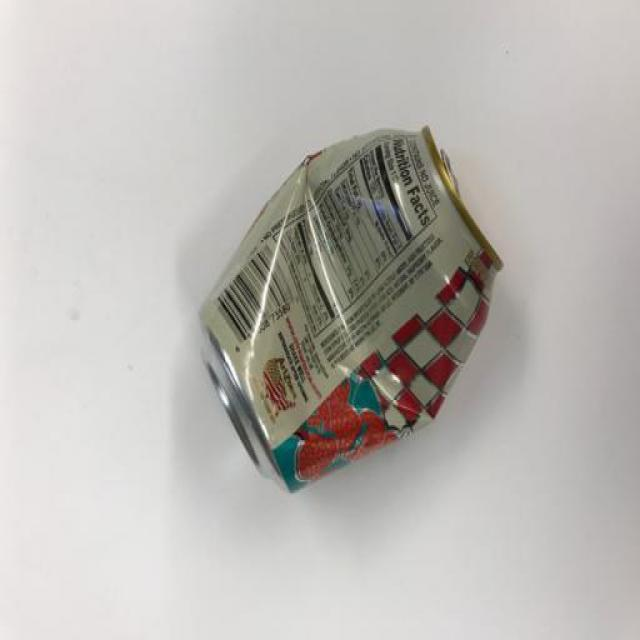metel: (189, 93, 512, 488)
